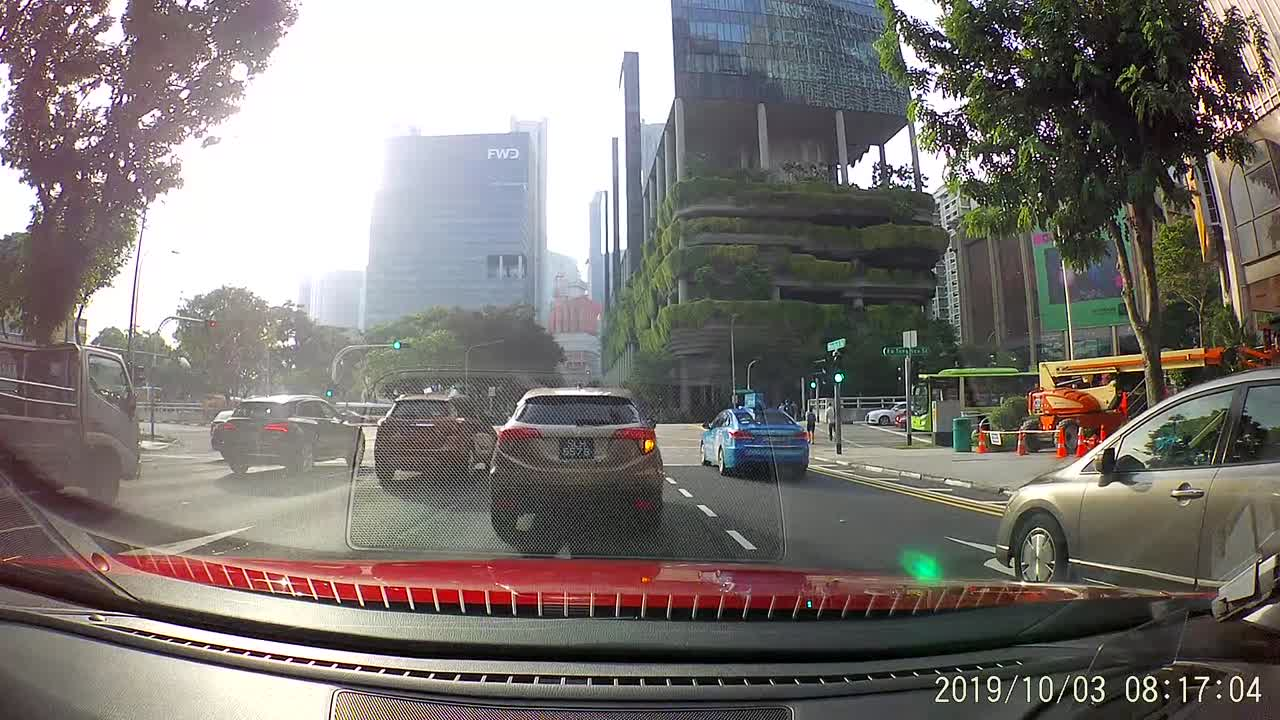bus: (903, 364, 1041, 443)
car: (992, 364, 1276, 582), (488, 379, 666, 541), (217, 389, 366, 479), (373, 388, 500, 489), (701, 388, 811, 480), (865, 393, 908, 429)
